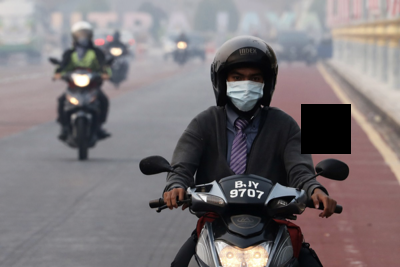with_mask: (227, 70, 265, 111)
